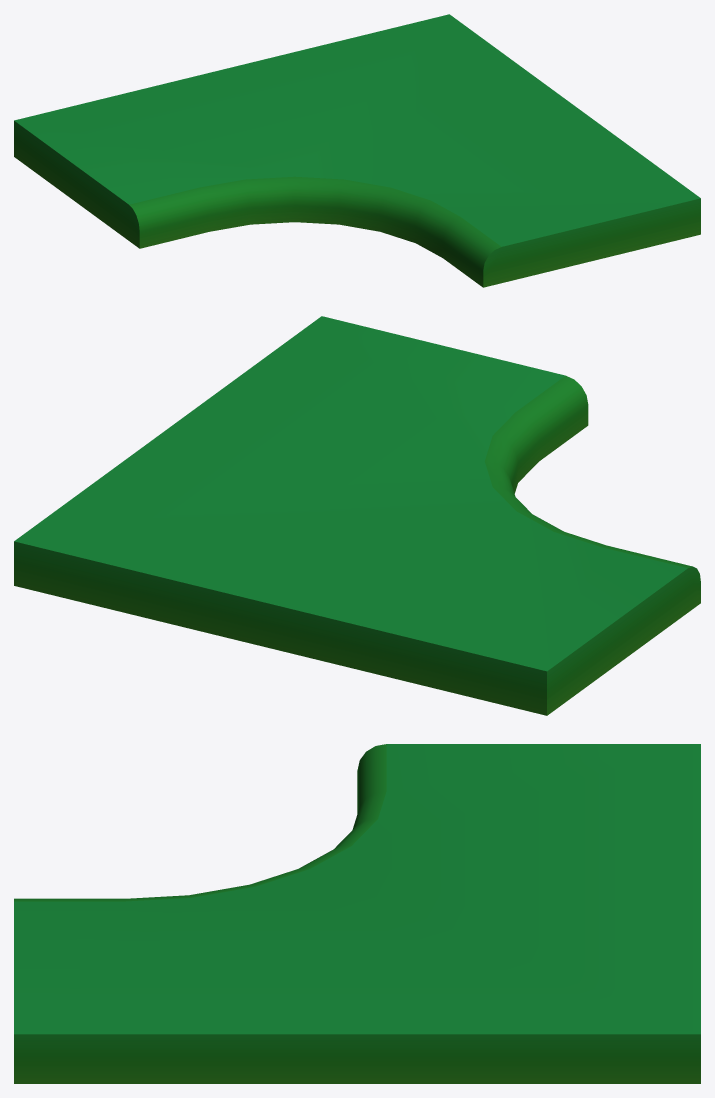
The model's file is GF_ICorner_1_1.glb.
3 views of the same model, one above another, from view 1: azimuth 30°, elevation 25°; view 2: azimuth 150°, elevation 25°; view 3: azimuth 270°, elevation 25° (orthographic). The views are drawn at different scales.
Parts seen in each view (by area): view 1: GF_ICorner_1_1; view 2: GF_ICorner_1_1; view 3: GF_ICorner_1_1.
Part boxes in pixels (<box>): GF_ICorner_1_1: <box>14,14,700,287</box>; GF_ICorner_1_1: <box>14,316,700,715</box>; GF_ICorner_1_1: <box>14,744,700,1083</box>.
Bounding box in the file's own units: 4 × 0.3187 × 4.
Materials: 1 (1 with a texture image).
